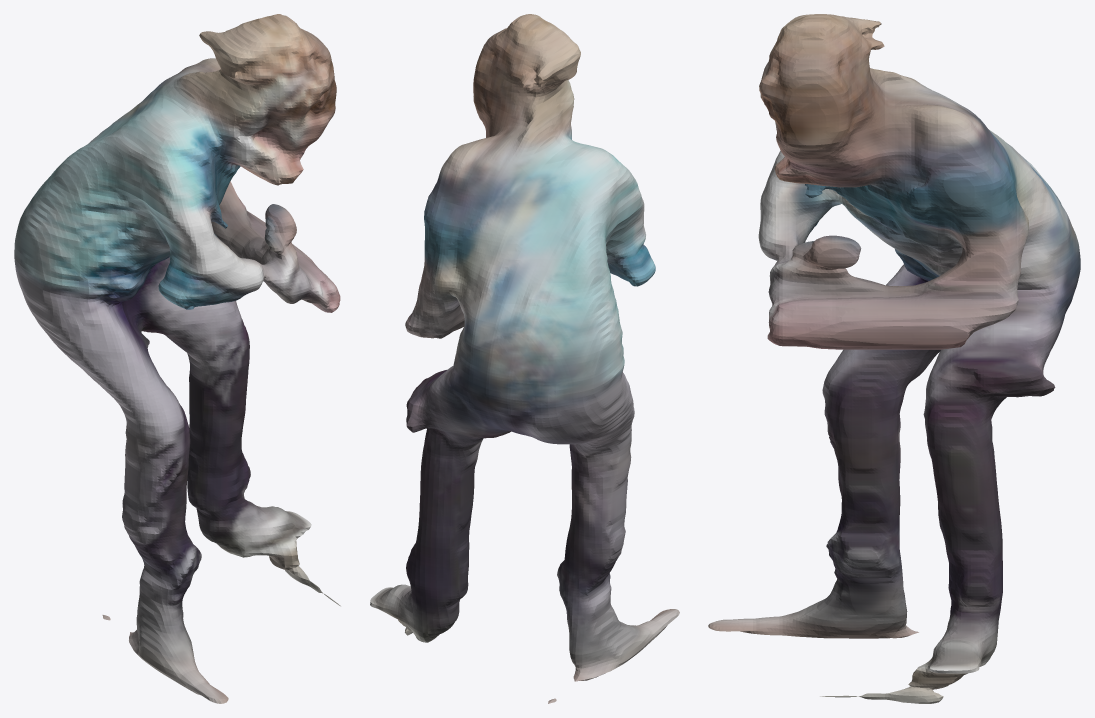
The model's file is 0072_tex.glb.
3 renders of one model, left to right at view 1: azimuth 30°, elevation 25°; view 2: azimuth 150°, elevation 25°; view 3: azimuth 270°, elevation 25°, orthographic. The views are drawn at different scales.
Visible parts, largest first — view 1: 0072_tex.obj; view 2: 0072_tex.obj; view 3: 0072_tex.obj.
Part boxes in pixels (x1,y1,x2,y2): 0072_tex.obj: [14, 14, 340, 703]; 0072_tex.obj: [370, 14, 679, 703]; 0072_tex.obj: [708, 14, 1080, 703].
Size of the model in its own units: 0.3777 by 0.8731 by 0.4409.
